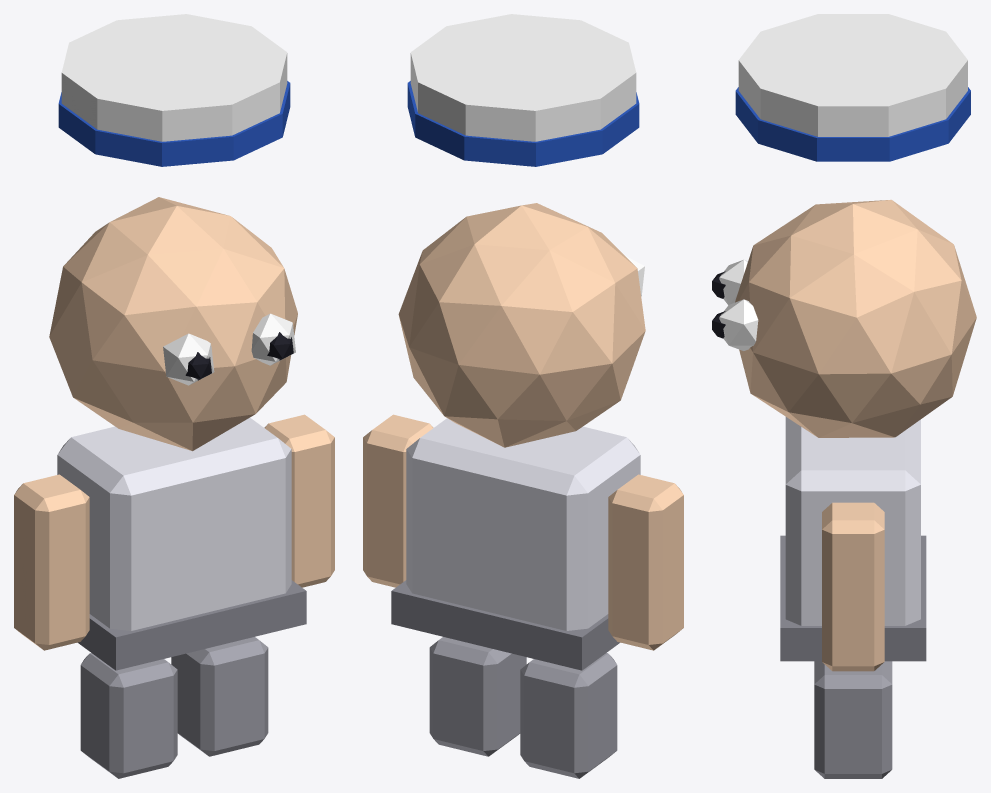
The model's file is MistCommodore.fbx.
3 views of the same model, side by side, from view 1: azimuth 30°, elevation 25°; view 2: azimuth 150°, elevation 25°; view 3: azimuth 270°, elevation 25° (orthographic).
Visible parts, largest first — view 1: MistCommodore; view 2: MistCommodore; view 3: MistCommodore.
Boxes of the visible parts, <box> form: MistCommodore: <box>14,14,334,778</box>; MistCommodore: <box>363,14,683,778</box>; MistCommodore: <box>712,14,976,778</box>.
Bounding box in the file's own units: 7.92 × 17.39 × 6.1.
Materials: 1 (1 with a texture image).
